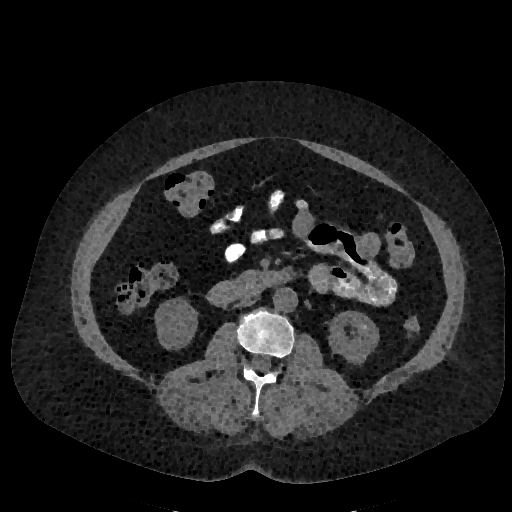Lesion: (361, 322, 369, 333)
